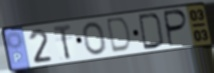2: (28, 27, 55, 65)
D: (137, 12, 166, 51), (106, 16, 133, 55)
O: (81, 21, 108, 56)
P: (163, 8, 190, 49)
T: (51, 22, 73, 61)
